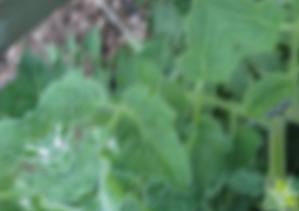Tomato leaf mosaic virus: (90, 73, 223, 211), (124, 0, 256, 110), (26, 58, 122, 148), (59, 138, 120, 203), (186, 107, 242, 168), (229, 78, 283, 134), (132, 57, 171, 100)
